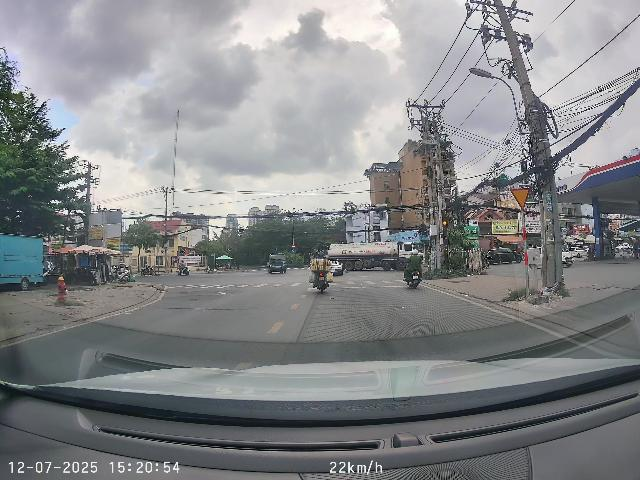208-giao-nhau-voi-duong-uu-tien: (510, 188, 530, 210)
